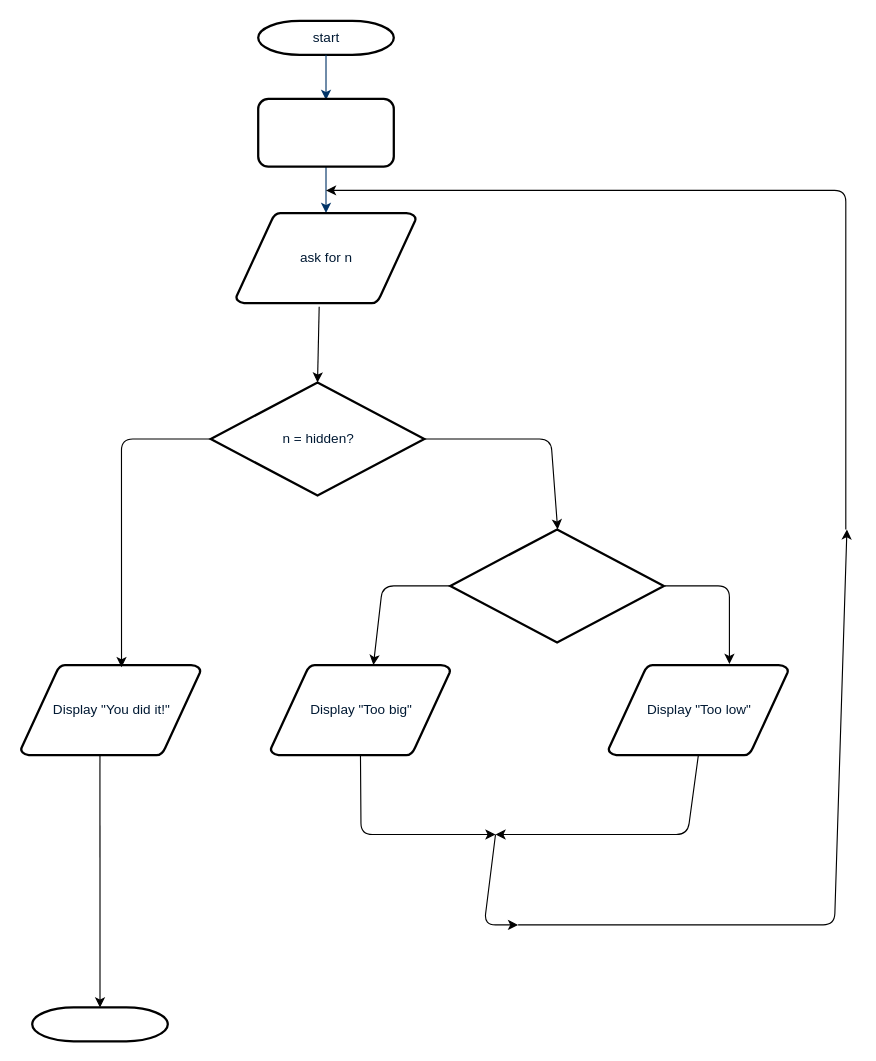
The diagram is 876 pixels wide and 1061 high, and some of its shapes have lost their labels. The shapes that lost their labels are listed below. From the top down, each one's centre as x and y in pixels, then its label:
the point at 325,132: hidden = 345
the point at 556,585: n > hidden?
the point at 99,1024: end
